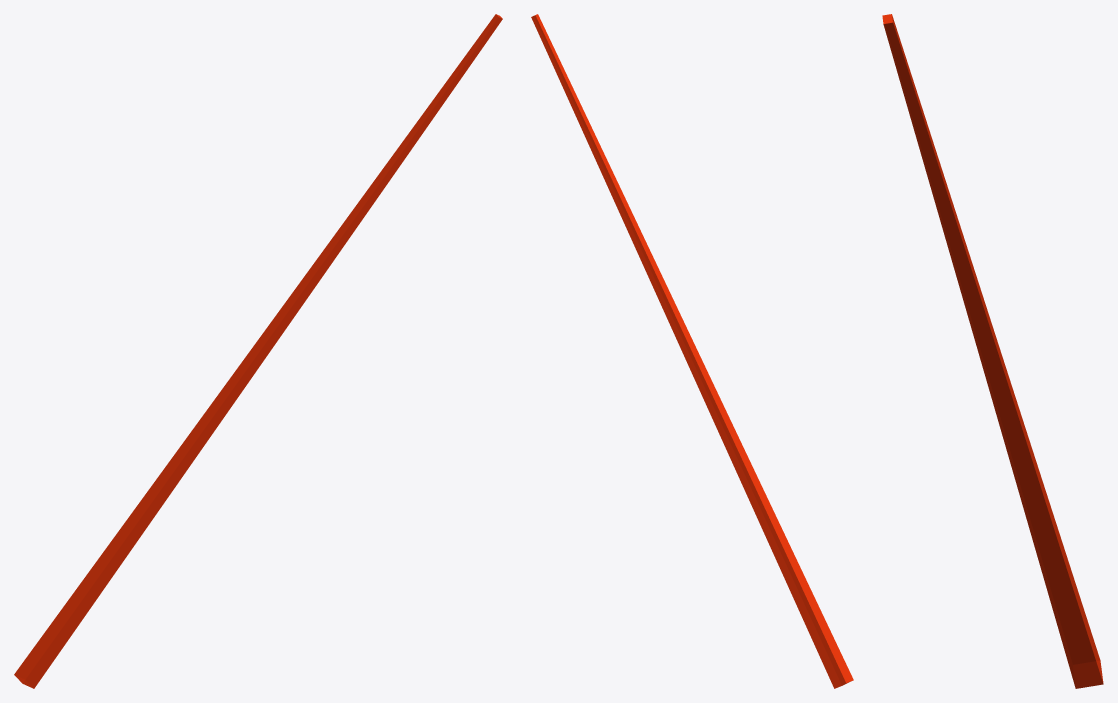
Rendered from Event_421127236_EBrechit_7.fbx.
3 renders of one model, left to right at view 1: azimuth 30°, elevation 25°; view 2: azimuth 150°, elevation 25°; view 3: azimuth 270°, elevation 25°, orthographic. The views are drawn at different scales.
Parts seen in each view (by area): view 1: Model; view 2: Model; view 3: Model.
Boxes of the visible parts, left/top/right/bottom form: Model: left=14, top=14, right=502, bottom=688; Model: left=531, top=14, right=853, bottom=688; Model: left=882, top=14, right=1103, bottom=688.
Size of the model in its own units: 4.45 by 6.24 by 1.26.
